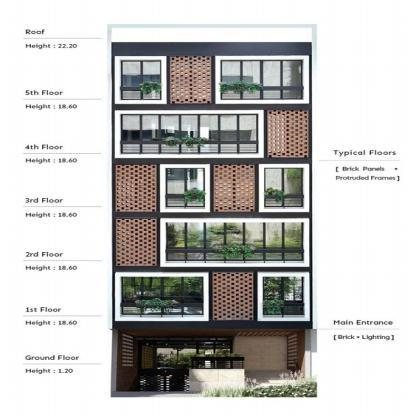Building Outline: (107, 23, 318, 398)
Door: (199, 346, 230, 369)
Facade: (107, 23, 318, 398)
Floor Slab: (112, 321, 313, 329), (112, 158, 312, 165), (112, 104, 312, 110), (112, 212, 312, 218), (112, 267, 313, 272)
Window: (121, 115, 256, 152), (168, 223, 302, 259), (221, 61, 302, 98), (124, 277, 202, 314), (264, 277, 302, 314), (121, 61, 159, 98), (167, 169, 203, 206), (266, 169, 300, 206), (143, 346, 196, 369)
